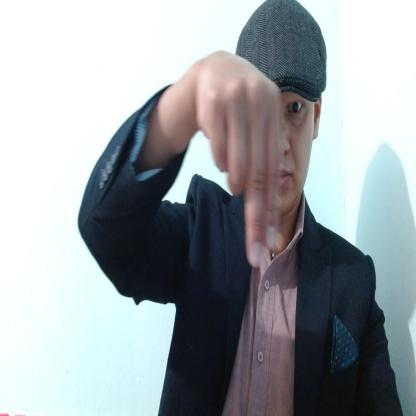N: (188, 47, 283, 266)
